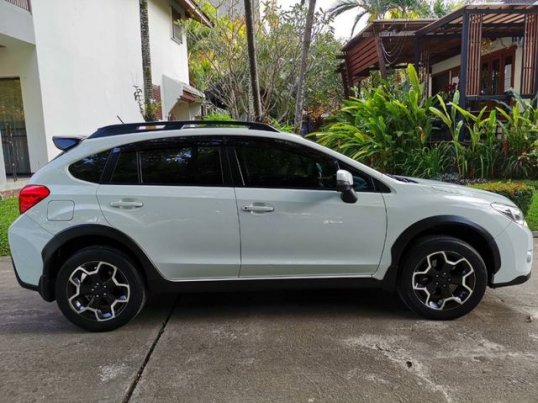pickup: (8, 120, 532, 333)
